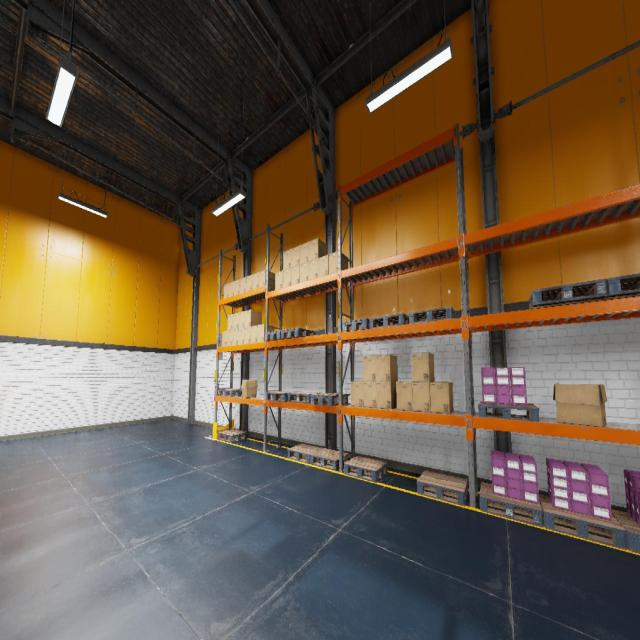box: (553, 383, 607, 427), (430, 382, 453, 414), (412, 352, 434, 382), (412, 382, 431, 412), (376, 355, 397, 381), (377, 382, 396, 409), (396, 382, 413, 411), (329, 251, 348, 274), (309, 238, 327, 260), (363, 382, 377, 408), (363, 356, 376, 381), (257, 324, 275, 342), (244, 309, 262, 327), (351, 381, 363, 407), (259, 270, 275, 289), (241, 380, 257, 398), (318, 254, 328, 277), (309, 258, 318, 280), (291, 245, 299, 268), (300, 242, 308, 264), (283, 249, 291, 270), (300, 262, 308, 282), (291, 265, 299, 285), (283, 268, 291, 287), (275, 270, 283, 289), (252, 272, 259, 289), (250, 326, 257, 342), (244, 326, 250, 344), (232, 312, 238, 330), (246, 274, 252, 292), (238, 311, 244, 328), (238, 328, 244, 344), (232, 329, 238, 345), (227, 314, 233, 330), (240, 277, 246, 293), (234, 279, 240, 295), (223, 283, 229, 299), (227, 330, 232, 346), (229, 281, 234, 297), (222, 331, 227, 346)
pallets: (538, 494, 626, 550), (479, 482, 544, 527), (528, 278, 608, 308), (417, 470, 468, 506), (611, 509, 640, 554), (478, 402, 539, 421), (344, 456, 387, 482), (602, 273, 640, 300), (310, 448, 349, 471), (408, 306, 454, 324), (287, 444, 324, 463), (369, 314, 409, 328), (310, 393, 348, 405), (342, 318, 370, 332), (288, 392, 323, 403), (218, 429, 247, 442), (281, 328, 315, 339), (266, 391, 300, 401), (265, 330, 287, 341), (218, 389, 242, 396)
